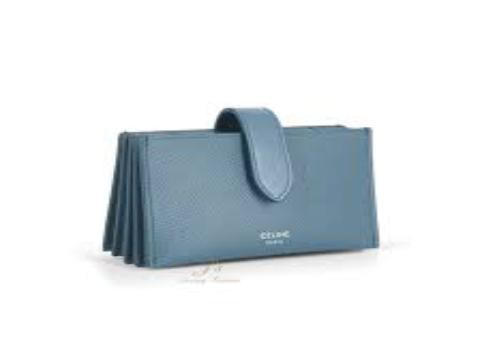CELINE: (239, 227, 295, 240)
